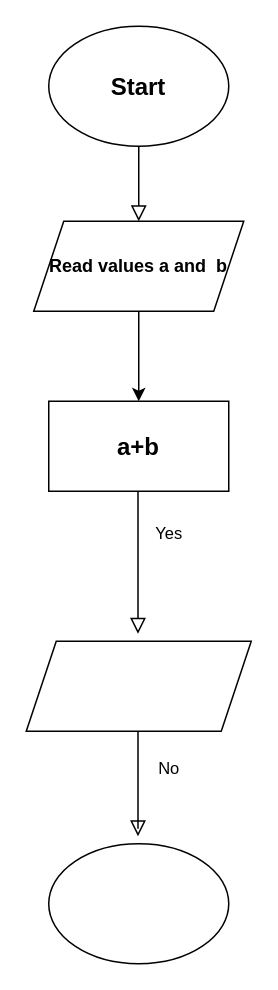
Some shapes in this 278 by 990 pixel diagram are drawn without their labels. The shapes that lost their labels are listed below. From the top down, each one's centre as x and y in pixels, then its label:
the point at 138,685: Print a+b
the point at 138,903: Stop
